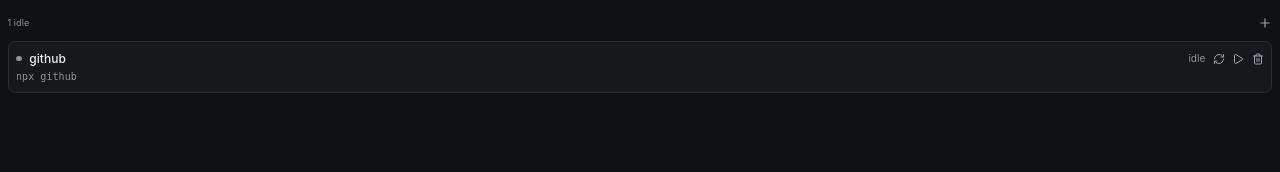
Scenario: McpPane last_invocation and action errors › surfaces HTTP 200 {ok:false} start failures as role=alert
What coordinates should you click on to do the following:
click the button titled "Start"
I would click on:
 (1238, 58)
Its box is [1232,52,1244,64].
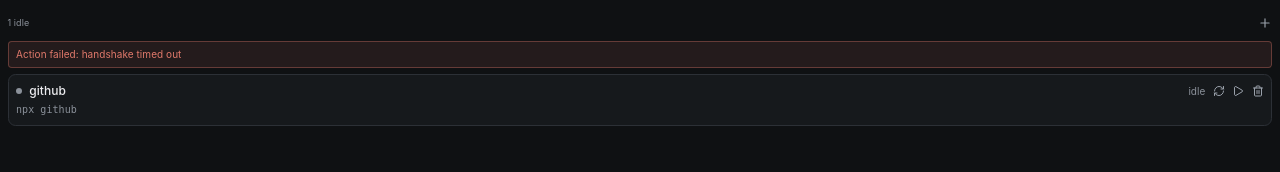
Check: the message reads "Action failed: handshake timed out", box [8,41,1272,68]
